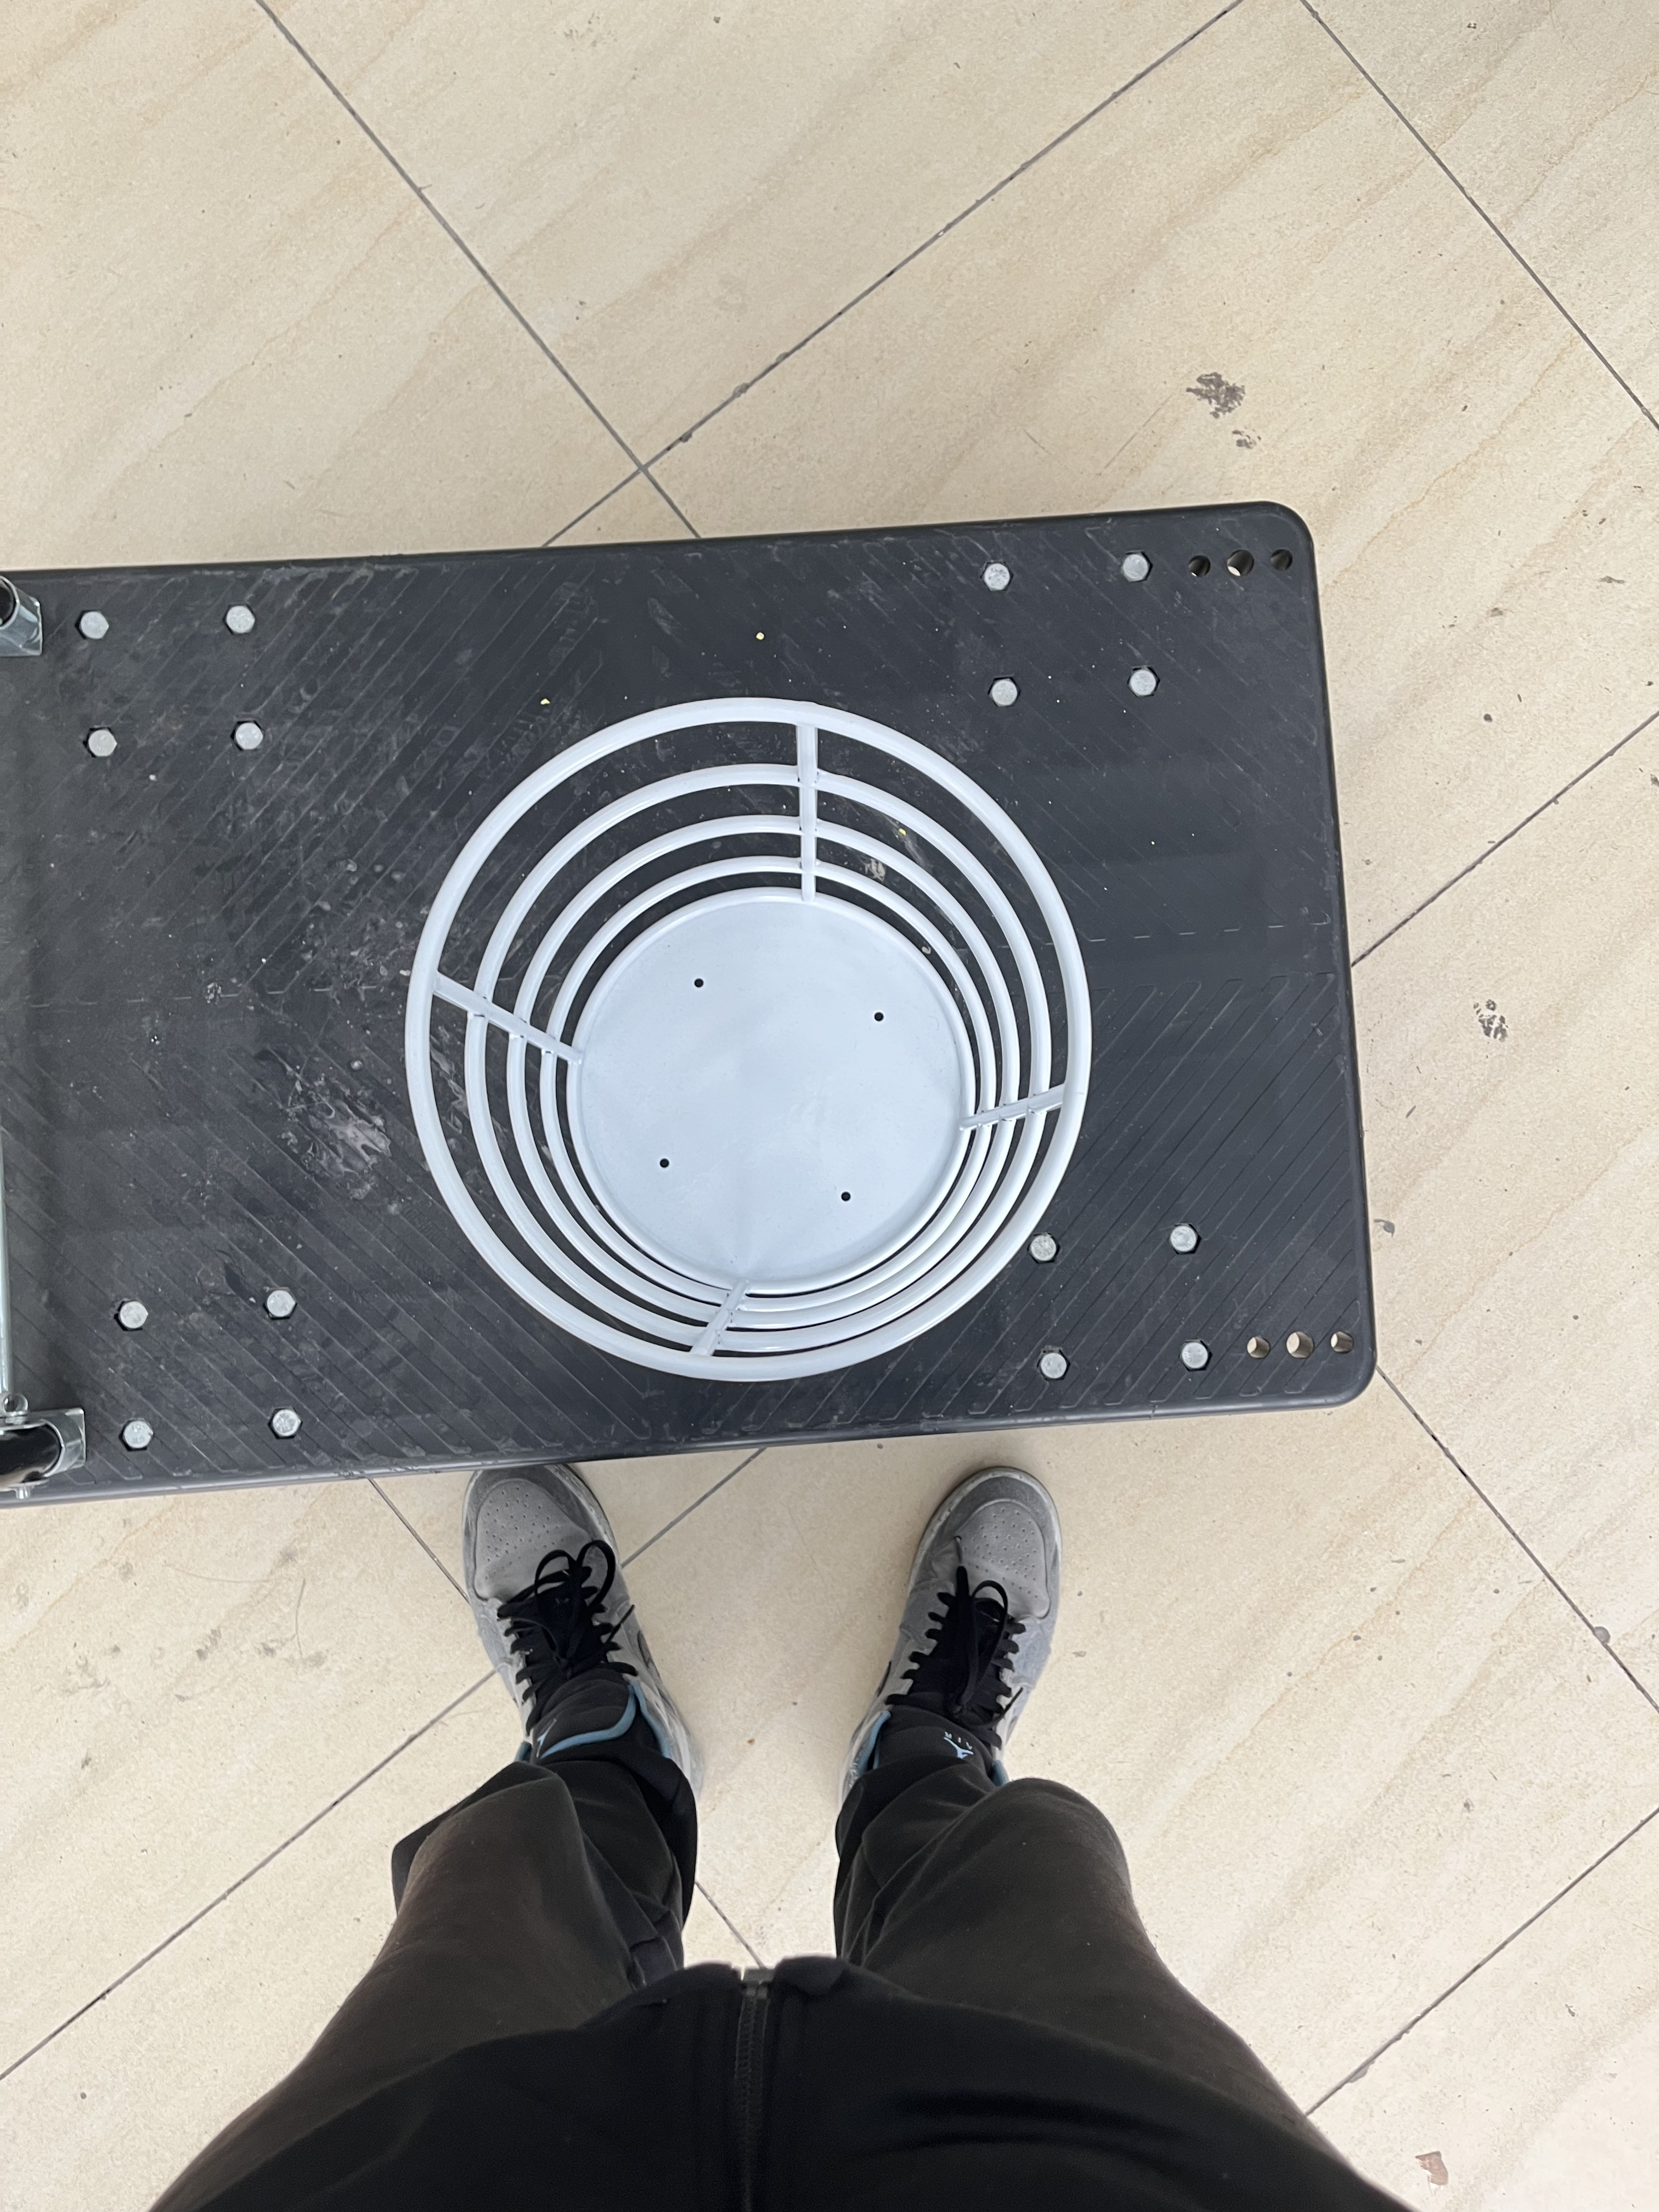blacket: (390, 683, 1105, 1400)
